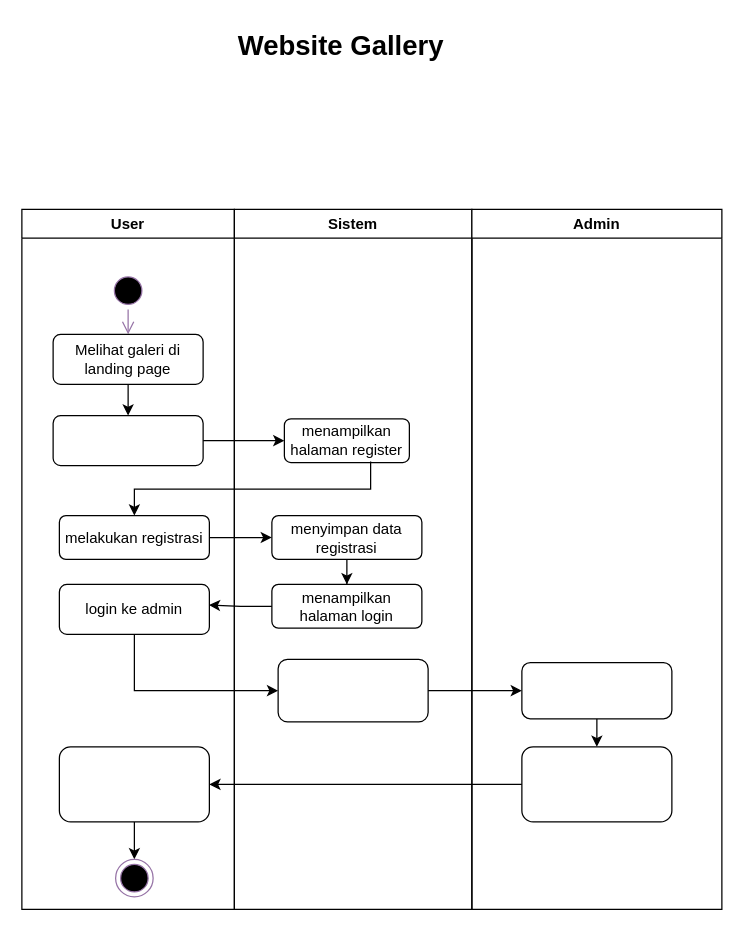
Image size: 744x931. Some labels were removed from this diagram. The shapes that lost their labels are listed below. From the top down, each one's centre as x and y in pixels, then its label:
the point at 127,440: men klik tombol registrasi
the point at 352,690: menampilkan dashbord admin
the point at 596,690: masuk ke dalam halaman dashboard
the point at 133,784: menamppilakan hasil ke user
the point at 596,784: menambah,mengedit, dan menghapus gambar
